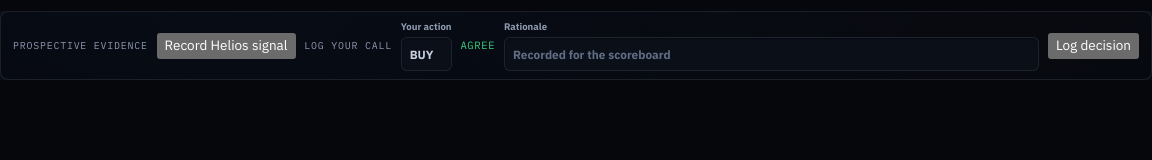
Test: prospective signal recording › records an instrument only after the operator clicks the explicit action
This screenshot has width=1152, height=160.
What coordinates should you click on to do the following:
click the button "Record Helios signal"
I would click on:
 (226, 46)
Its box is x1=156 y1=33 x2=296 y2=59.
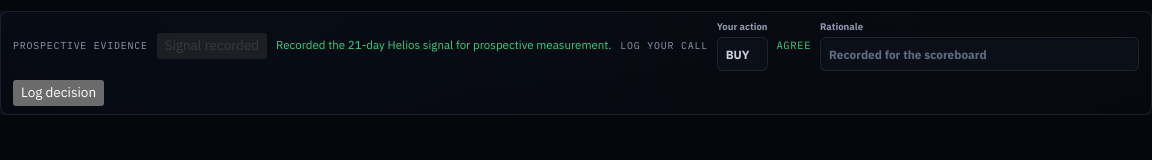
Expected: the button "Signal recorded" is shown, x1=156 y1=33 x2=267 y2=59
